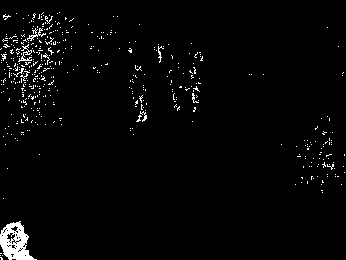person: (128, 62, 149, 124)
